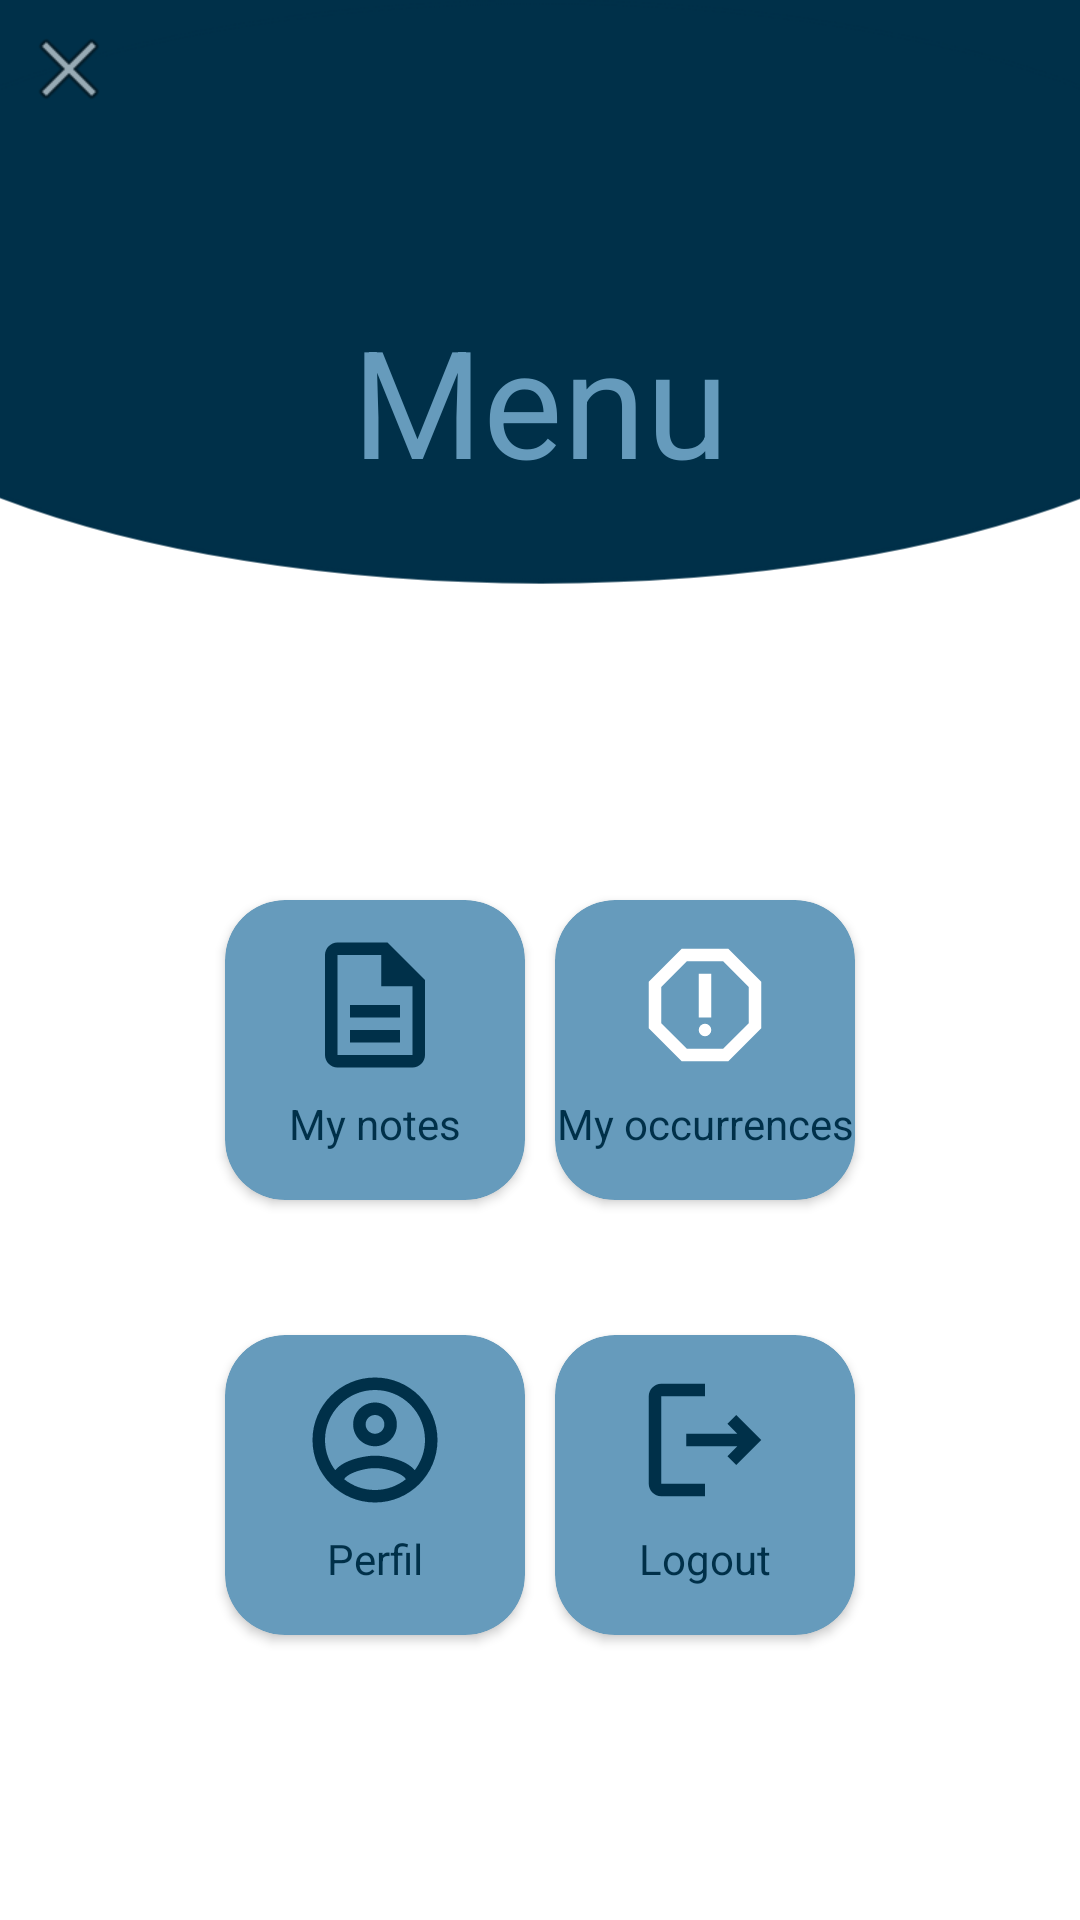

Point at icon controls on the screen. Image size 1080w x 1920h, points as (x=x, y=y).
account circle: (x=375, y=1440)
close clear cancel: (x=69, y=69)
description: (x=375, y=1005)
report: (x=705, y=1005)
